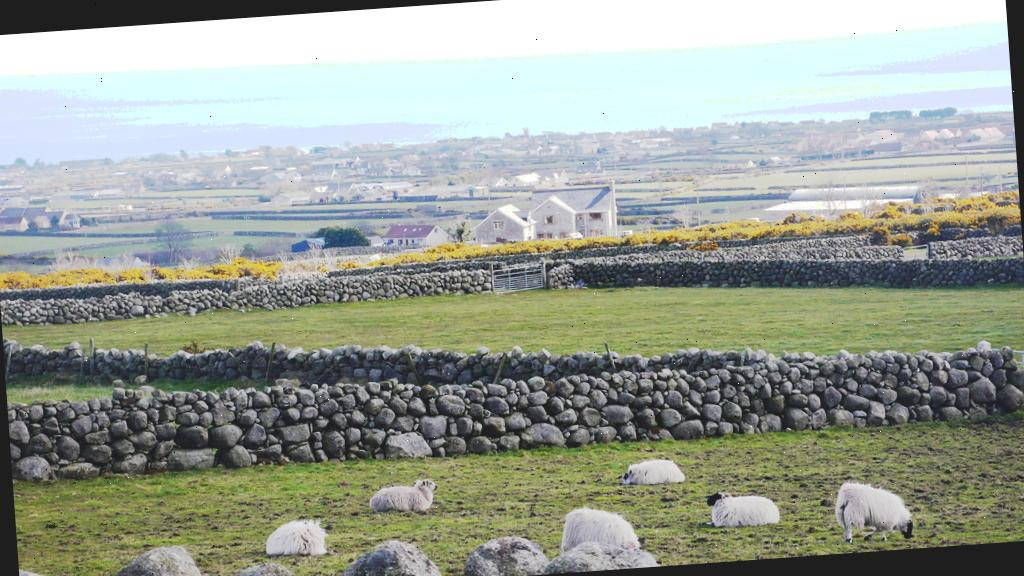Sheep: (834, 482, 916, 542), (258, 516, 332, 563), (560, 510, 636, 550), (706, 488, 783, 526), (368, 480, 442, 515), (624, 460, 682, 485)
